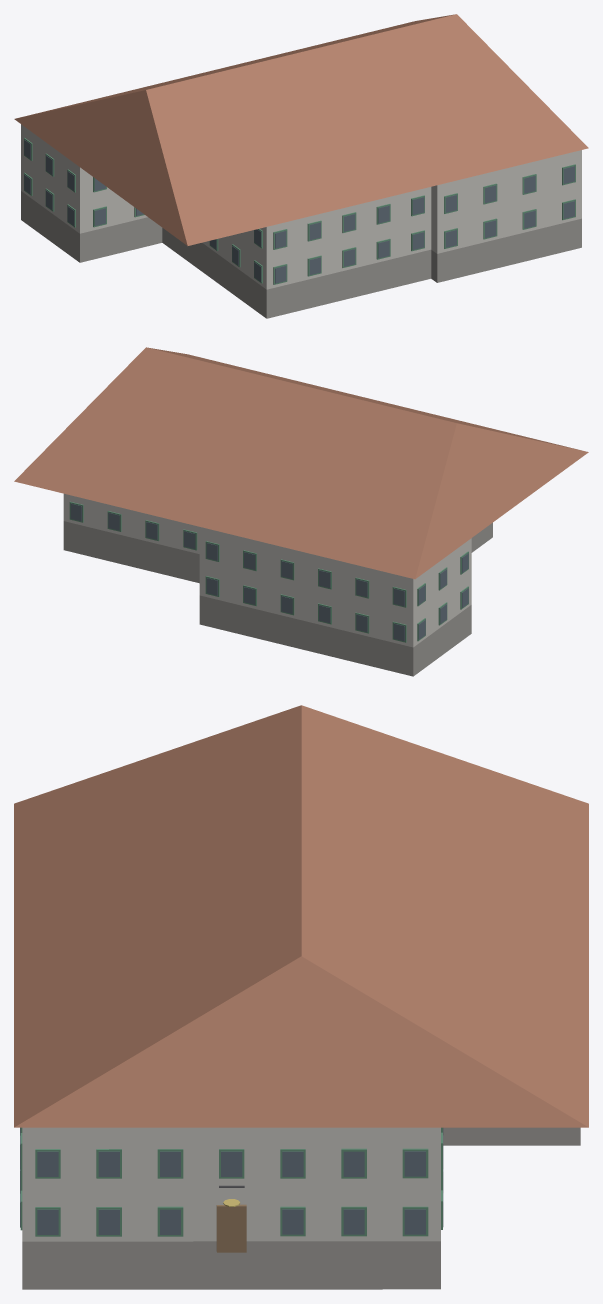
Rendered from landmark-inn-gasthaus-zum-engel.glb.
3 renders of one model, top to bottom at view 1: azimuth 30°, elevation 25°; view 2: azimuth 150°, elevation 25°; view 3: azimuth 270°, elevation 25°, orthographic. The views are drawn at different scales.
Parts seen in each view (by area): view 1: building; view 2: building; view 3: building.
Part boxes in pixels (left/top/right/bottom): building: left=14, top=14, right=588, bottom=318; building: left=14, top=347, right=588, bottom=676; building: left=14, top=705, right=588, bottom=1289.
Bounding box in the file's own units: 37.14 × 15.6 × 27.03.
